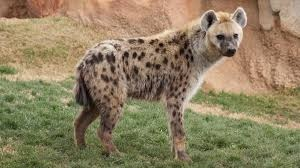hyna: (67, 4, 248, 164)
